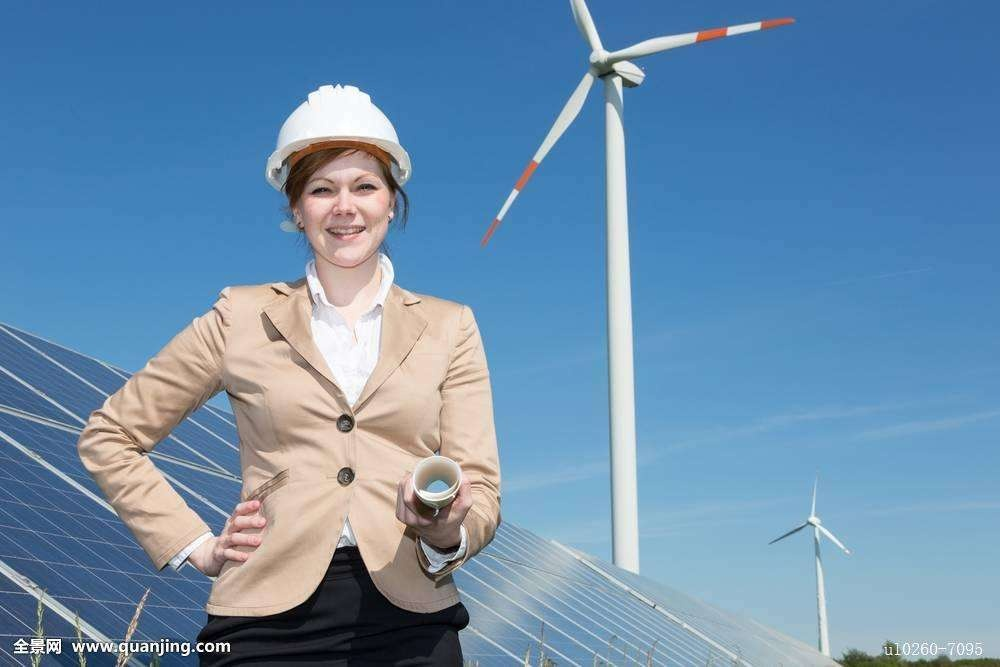white: (265, 78, 411, 273)
